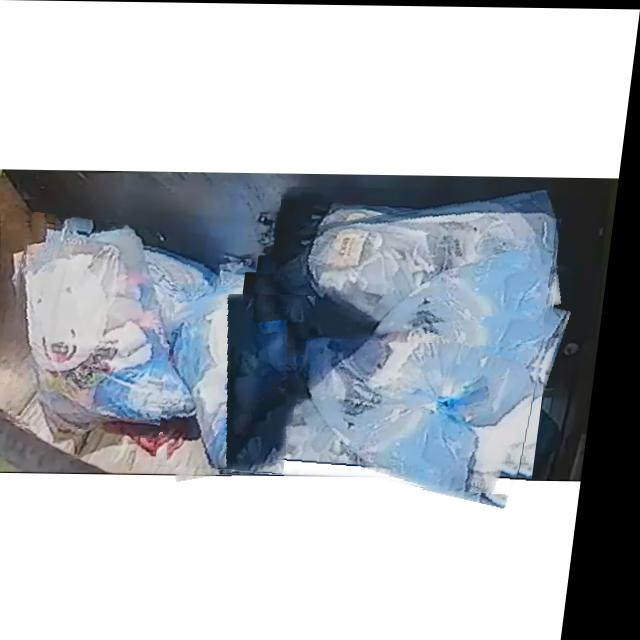other_trashbag: (261, 256, 547, 488), (279, 189, 559, 341), (29, 224, 198, 427), (180, 294, 298, 470)
